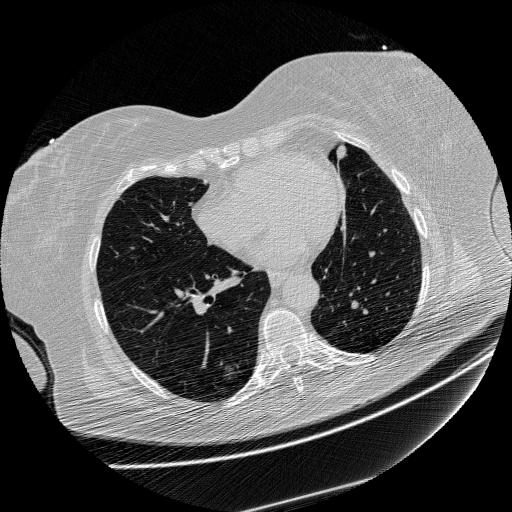nodule: (217, 362, 240, 385)
